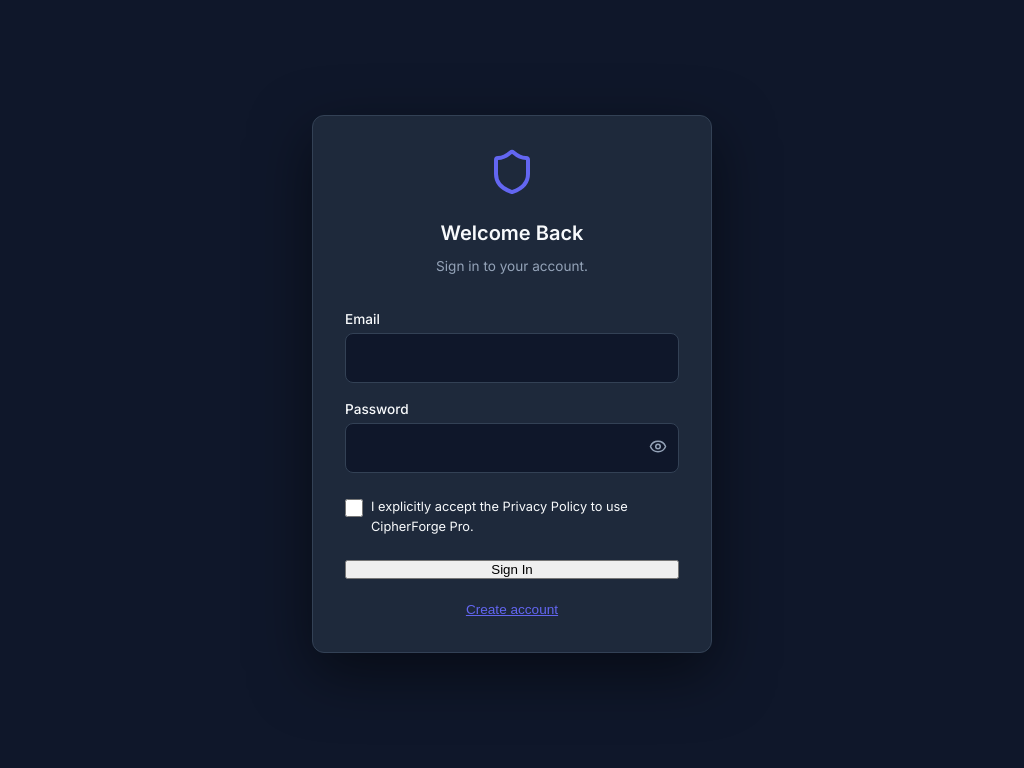
Test case: LoginScreen account creation › rejects a duplicate email with a sign-in hint
Click the button "Create account" at coordinates (512, 609), box [466,602,558,617]
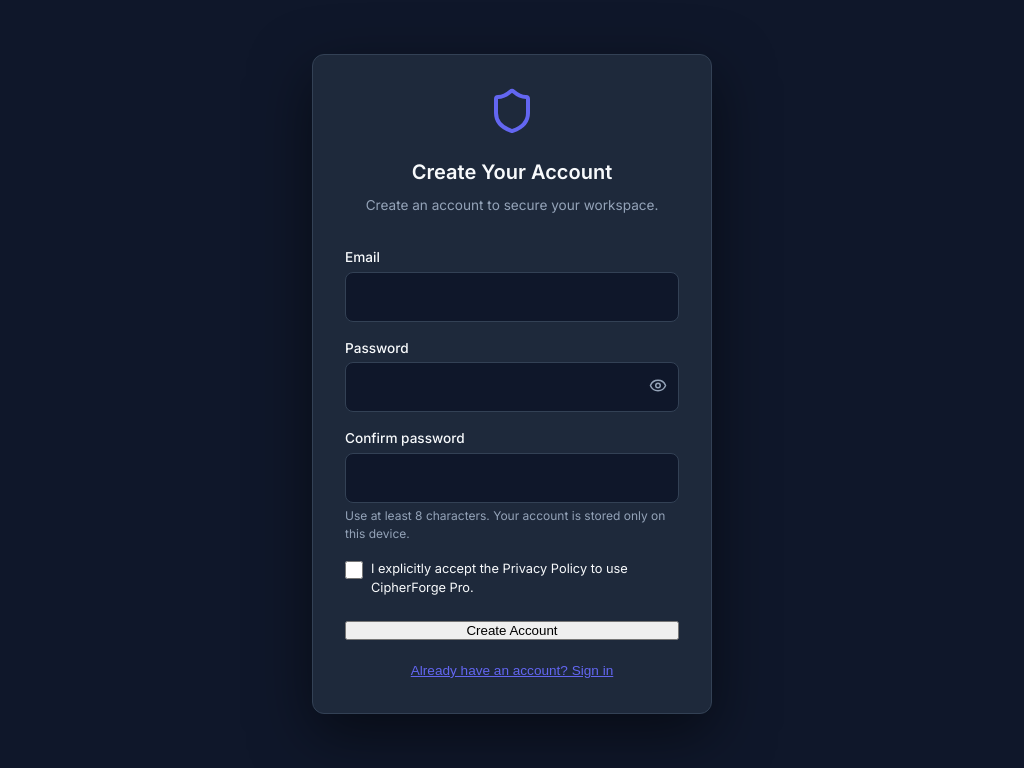
Type "ada@example.com" into the field labelled "Email" at coordinates (512, 297), box [345,272,679,322]
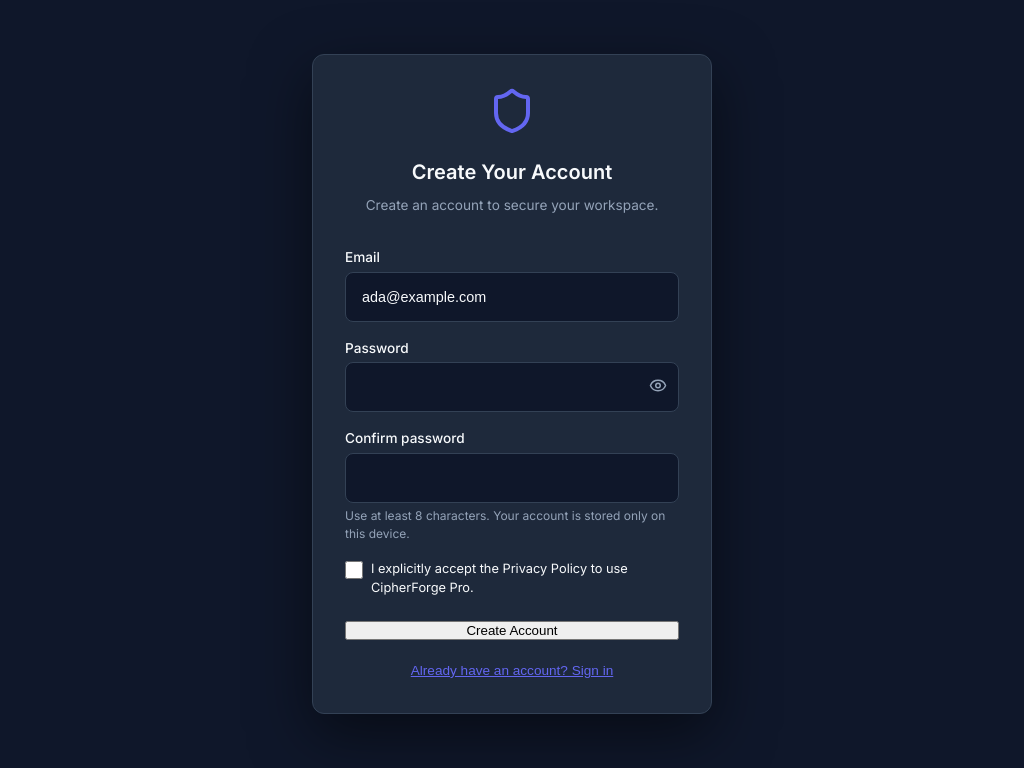
Type "correct-horse-battery-staple" into the password field labelled "Password" at coordinates (512, 387), box [345,362,679,412]
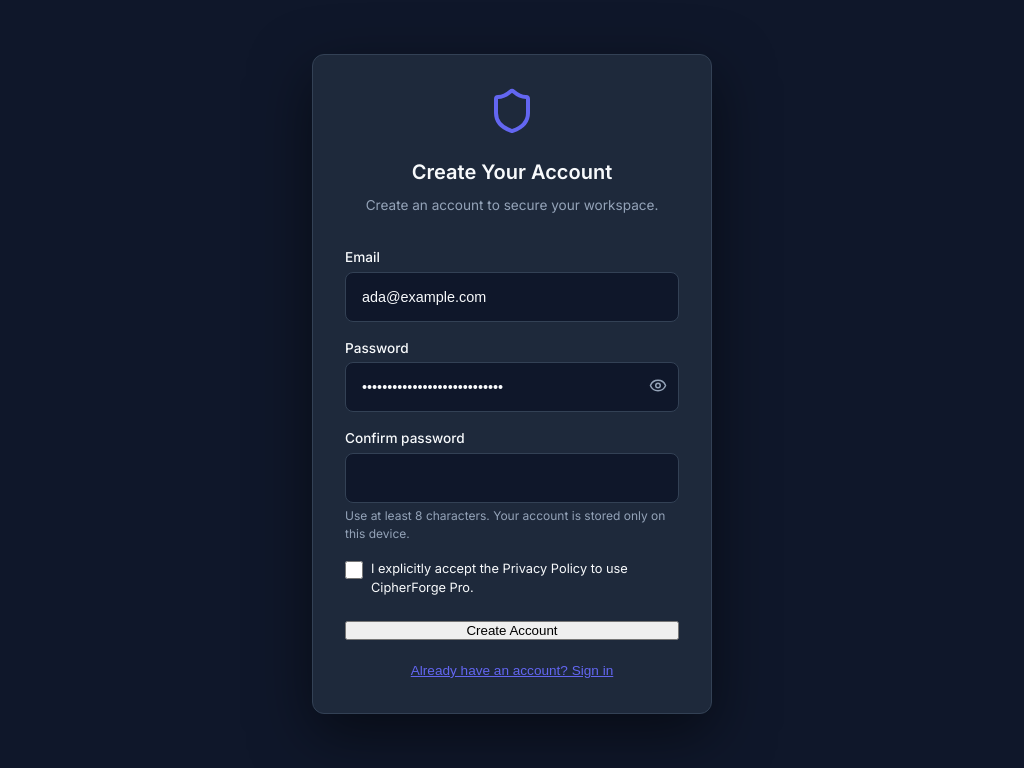
Type "correct-horse-battery-staple" into the password field labelled "Confirm password" at coordinates (512, 478), box [345,453,679,503]
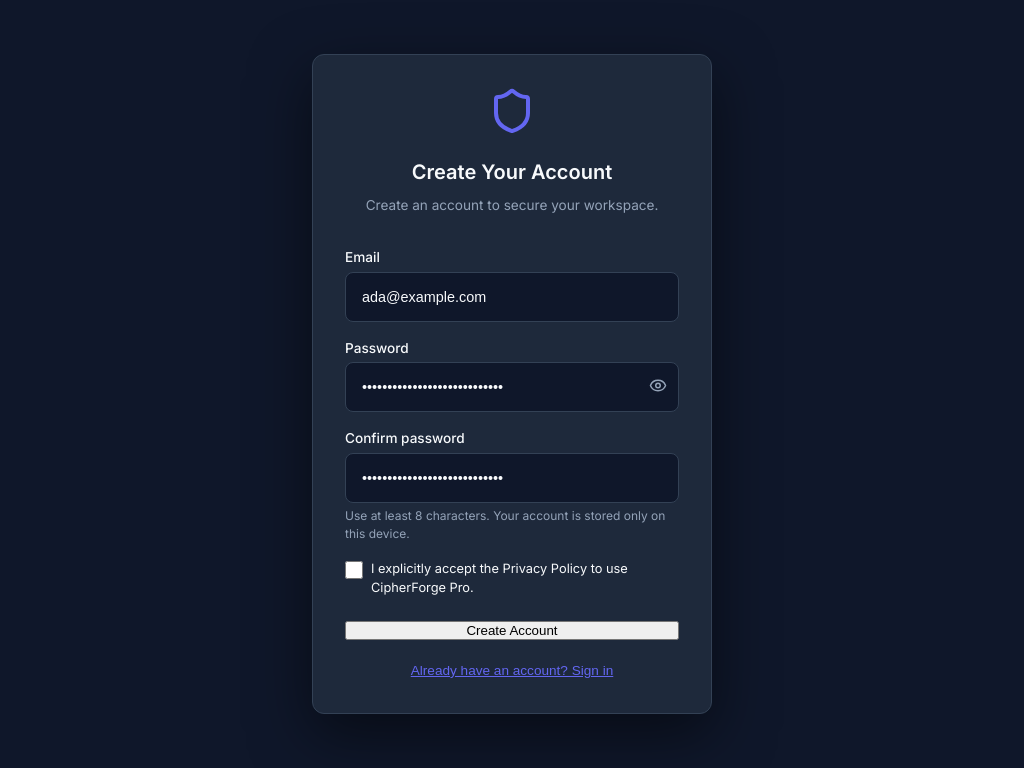
Click the checkbox labelled "I explicitly accept the Privacy Policy to use CipherForge Pro." at coordinates (354, 570), box [345,561,363,579]
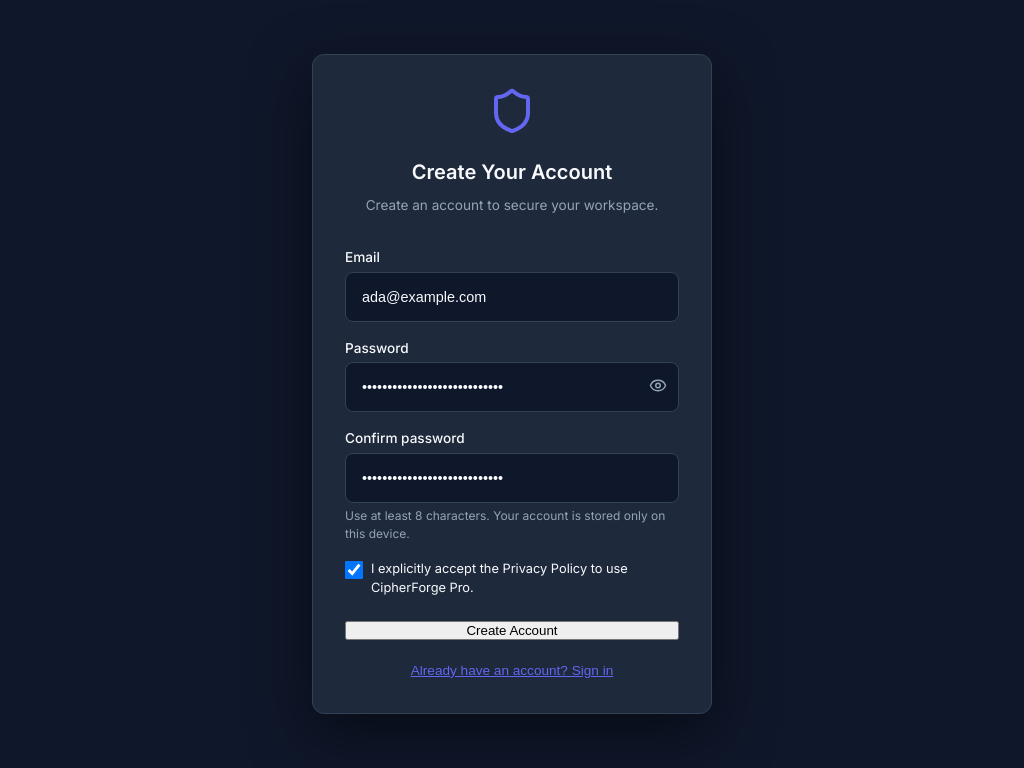
Submit the form labelled "Email", box [345,247,679,681]
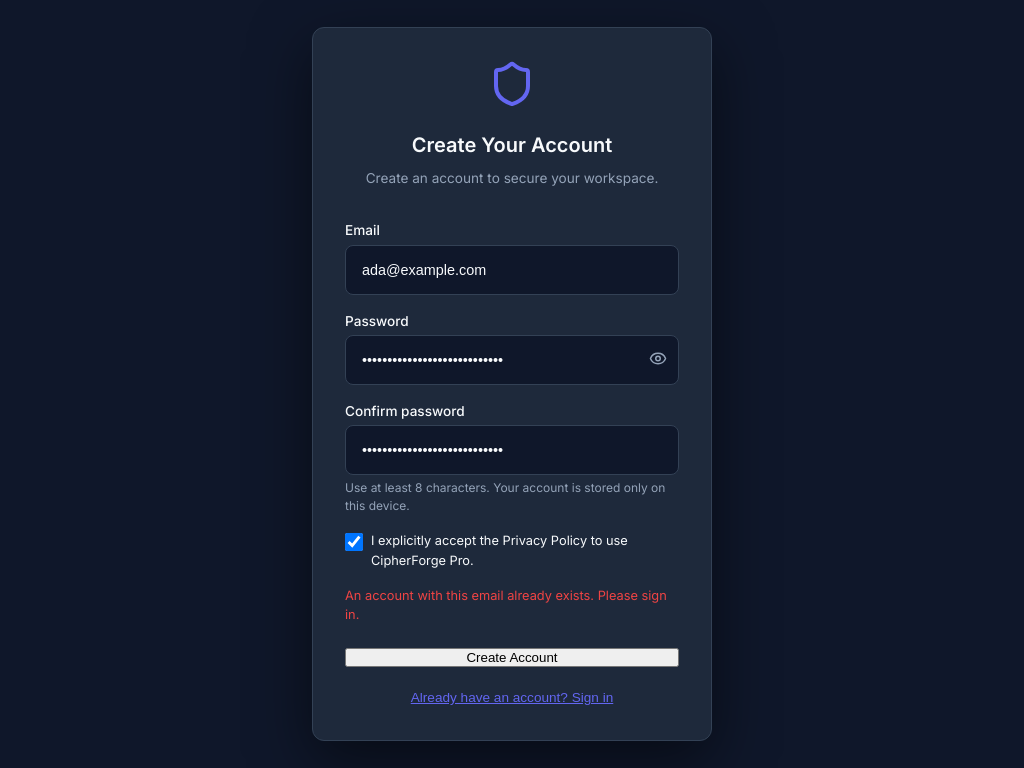
expect the message reads "An account with this email already exists. Please sign in.": met, box [345,588,667,622]
